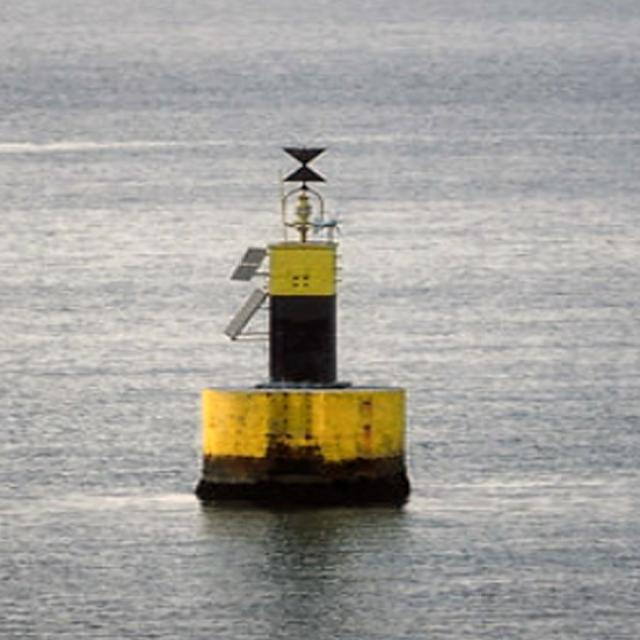buoy: (176, 134, 422, 505)
